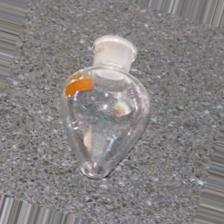Pear shaped flask: (59, 38, 146, 186)
